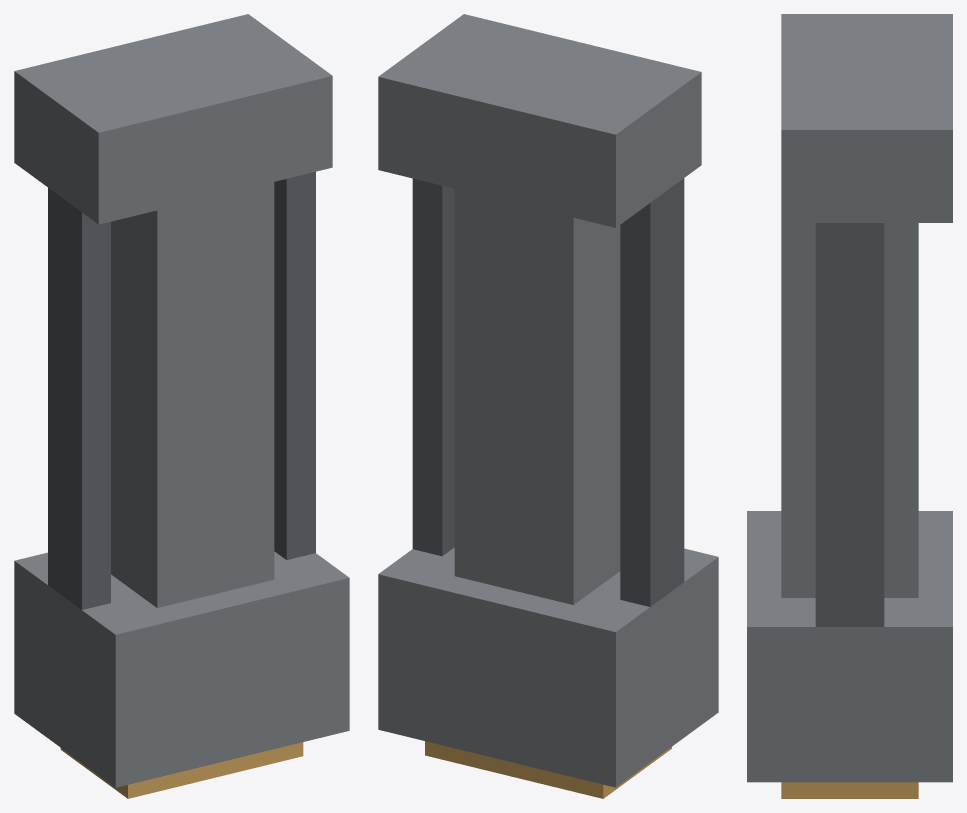
The model's file is piston.glb.
The picture shows the model from 3 angles, left to right: view 1: azimuth 30°, elevation 25°; view 2: azimuth 150°, elevation 25°; view 3: azimuth 270°, elevation 25°; orthographic projection.
Size of the model in its own units: 8 by 22 by 6.
